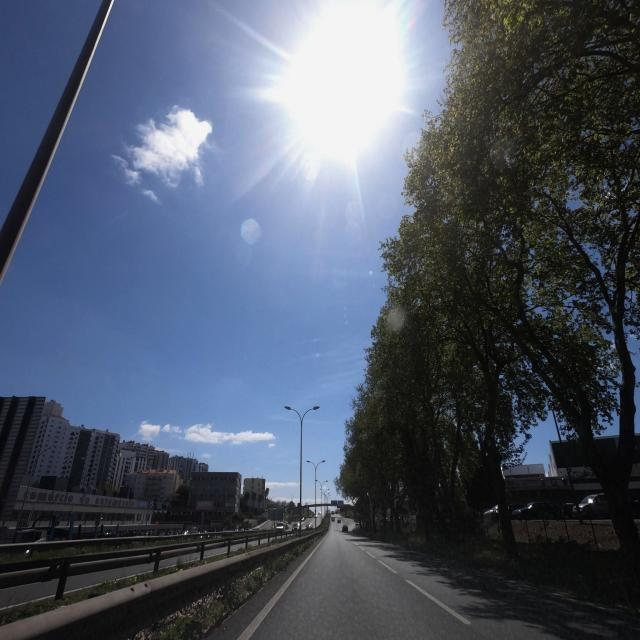car: (576, 490, 640, 523), (574, 492, 610, 520), (513, 500, 561, 520), (482, 502, 520, 526), (561, 502, 578, 518)
